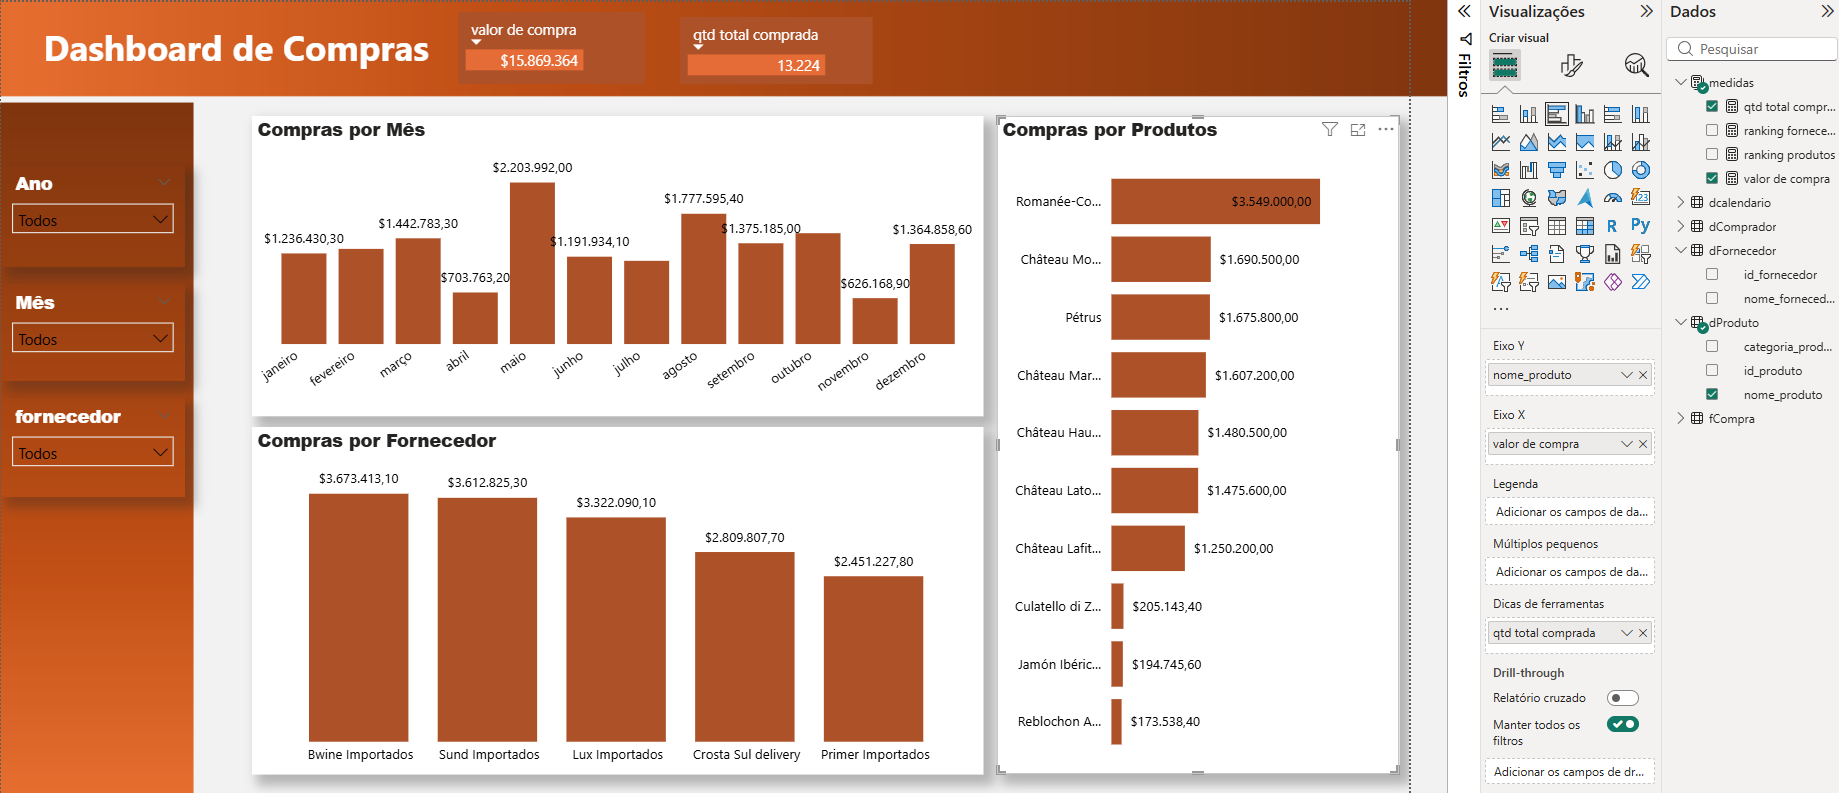

The dashboard page shown, as its layout file describes it:
{"tool":"powerbi","page":{"name":"Página 1","canvas":[1280,720],"ordinal":0},"visuals":[{"type":"textbox","box":[34,13.6,433.8,61.3],"z":0},{"type":"tableEx","fields":{"Values":["medidas.valor de compra"]},"box":[415.5,9.1,170,65.5],"z":2},{"type":"slicer","fields":{"Values":["dcalendario.Ano"]},"box":[0,147.8,167.5,93.1],"z":3},{"type":"slicer","fields":{"Values":["dcalendario.Nome do Mês"]},"box":[0,256.1,167.5,87.8],"z":4},{"type":"slicer","fields":{"Values":["dFornecedor.nome_fornecedor"]},"box":[0,360,167.5,90.4],"z":5},{"type":"clusteredColumnChart","title":"Compras por Mês","fields":{"Y":["medidas.valor de compra"],"Category":["dcalendario.Nome do Mês"]},"box":[228.6,104.1,665.3,273.3],"z":6},{"type":"clusteredColumnChart","title":"Compras por Fornecedor","fields":{"Y":["medidas.valor de compra"],"Category":["dFornecedor.nome_fornecedor"]},"box":[228.6,386.1,665.3,316.1],"z":7},{"type":"clusteredBarChart","title":"Compras por Produtos","fields":{"Category":["dProduto.nome_produto"],"Y":["medidas.valor de compra"]},"box":[905.5,104.1,365.7,598.2],"z":8},{"type":"tableEx","fields":{"Values":["medidas.qtd total comprada"]},"box":[617.3,13.6,174.5,60.9],"z":9}]}

Visuals, with their boxes in screenshot pixels (x1, y1, x2, y2):
textbox: bbox(47, 24, 519, 91)
tableEx - medidas.valor de compra: bbox(462, 19, 647, 91)
slicer - dcalendario.Ano: bbox(10, 171, 192, 272)
slicer - dcalendario.Nome do Mês: bbox(10, 288, 192, 384)
slicer - dFornecedor.nome_fornecedor: bbox(10, 402, 192, 500)
"Compras por Mês" clusteredColumnChart: bbox(258, 123, 983, 421)
"Compras por Fornecedor" clusteredColumnChart: bbox(258, 430, 983, 774)
"Compras por Produtos" clusteredBarChart: bbox(996, 123, 1394, 774)
tableEx - medidas.qtd total comprada: bbox(682, 24, 872, 91)
